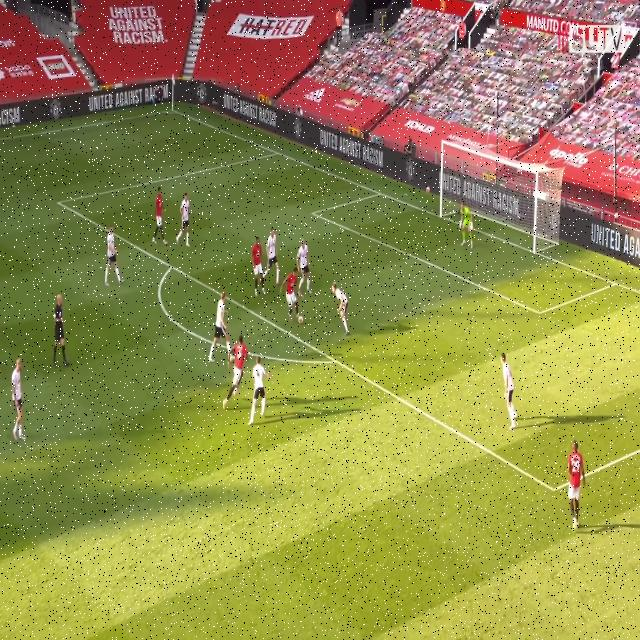Ball: (294, 310, 307, 328)
GoalKeeper: (459, 201, 478, 248)
TEAM 1: (567, 436, 587, 534), (224, 334, 248, 410), (248, 232, 266, 299), (152, 180, 168, 250), (282, 267, 299, 319)
TEAM 2: (8, 350, 27, 451), (208, 288, 231, 362), (101, 222, 125, 290), (249, 356, 268, 428), (292, 237, 314, 295), (332, 285, 354, 340), (502, 352, 517, 432), (265, 228, 282, 286), (176, 193, 192, 246)
